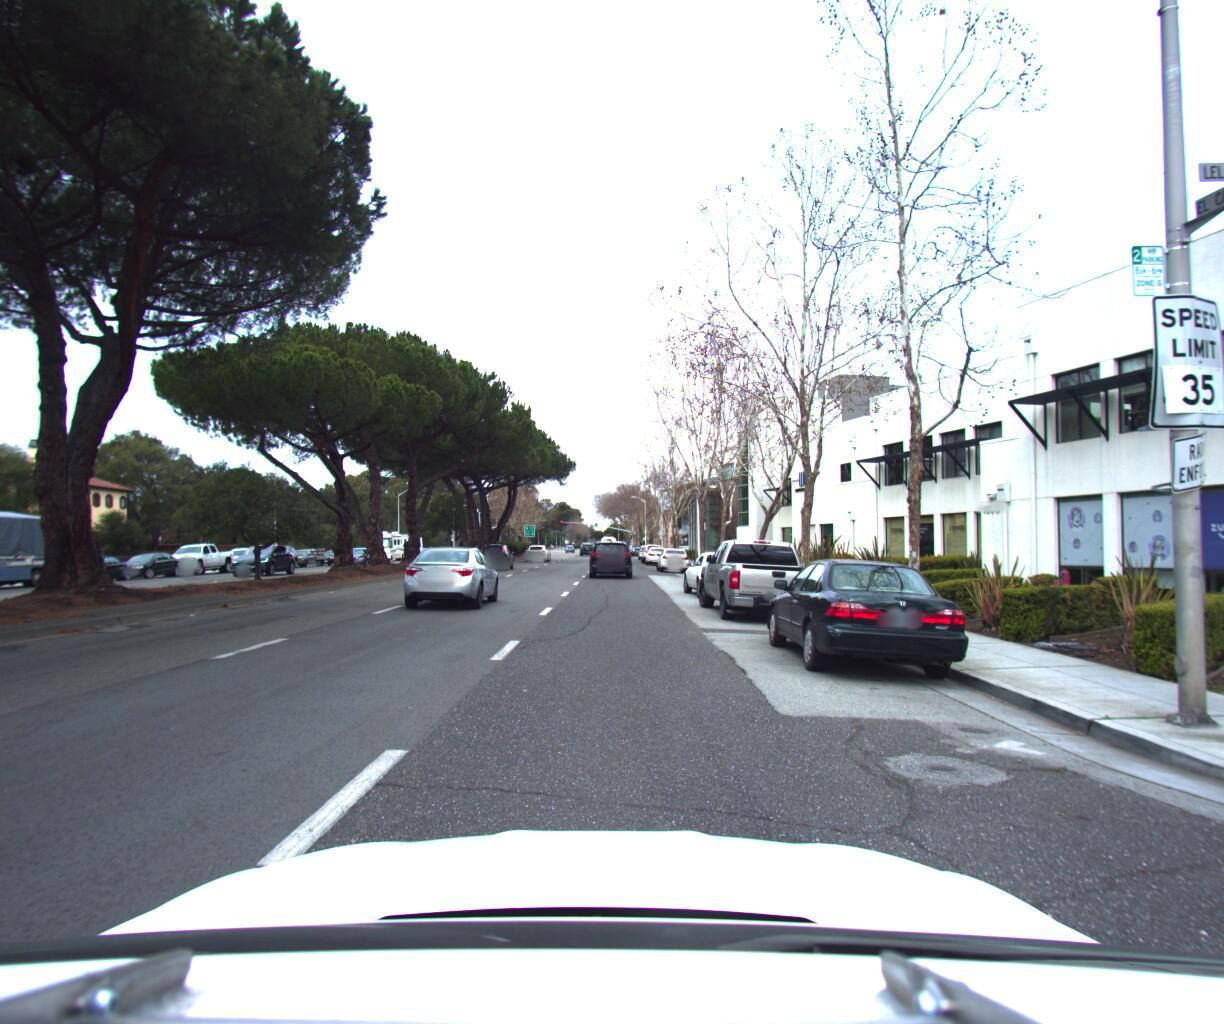car: (759, 549, 995, 692), (693, 526, 837, 622), (397, 537, 507, 605), (680, 542, 768, 595), (160, 535, 241, 571), (61, 547, 145, 578), (230, 537, 301, 569), (116, 545, 184, 575), (587, 528, 632, 570), (276, 538, 330, 561), (478, 534, 517, 562), (653, 538, 692, 565), (638, 534, 665, 555), (644, 536, 669, 557), (525, 533, 553, 551)
other_vehicle: (0, 497, 91, 591)
